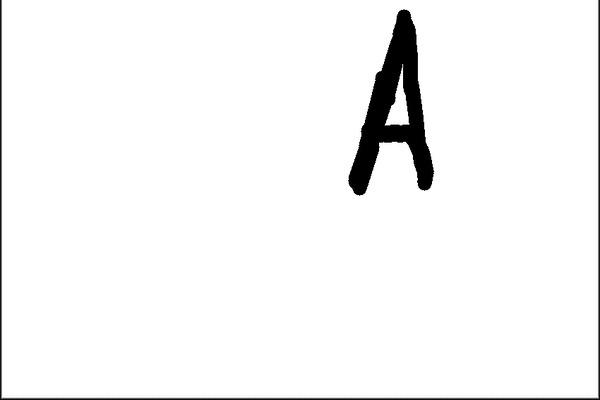A: (331, 5, 445, 205)
